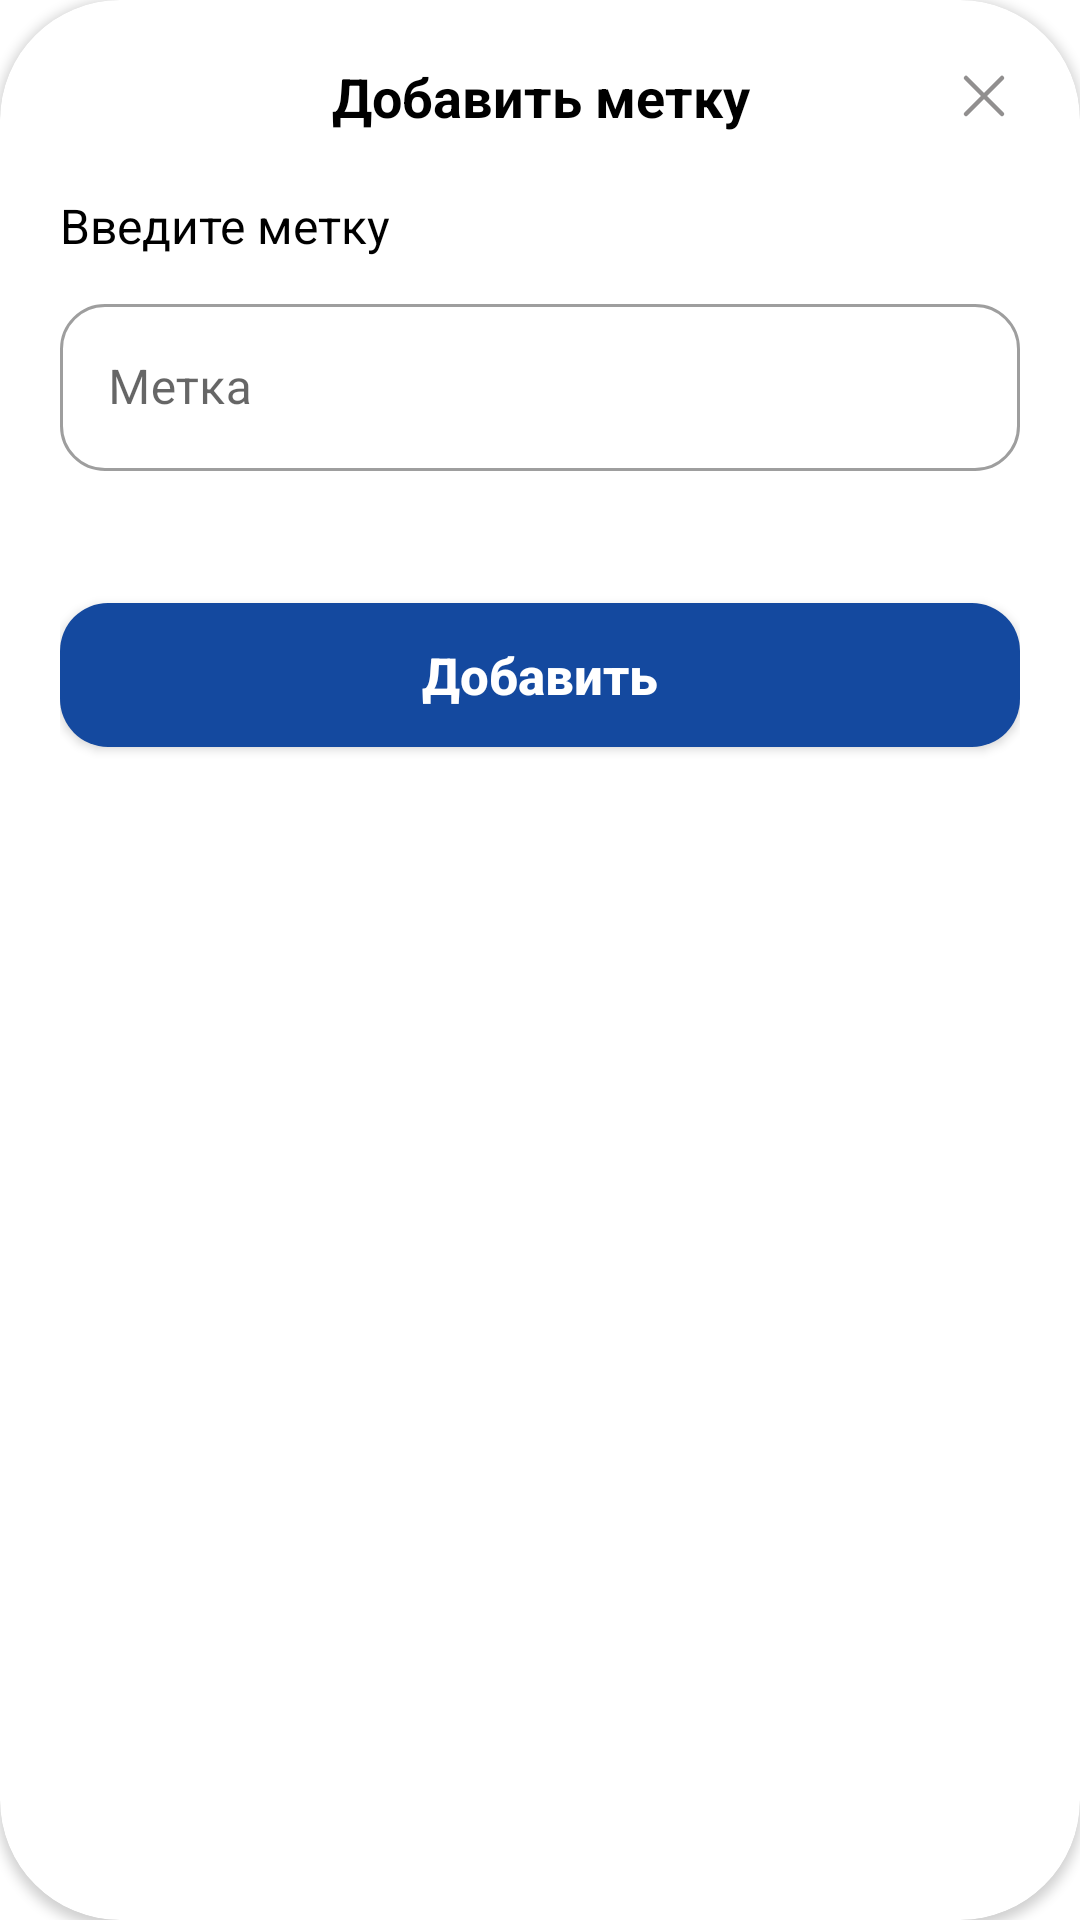

Point at icon controls on the screen. Image size 1080px x 1920px, points as [x,y].
cancel: [984,95]
